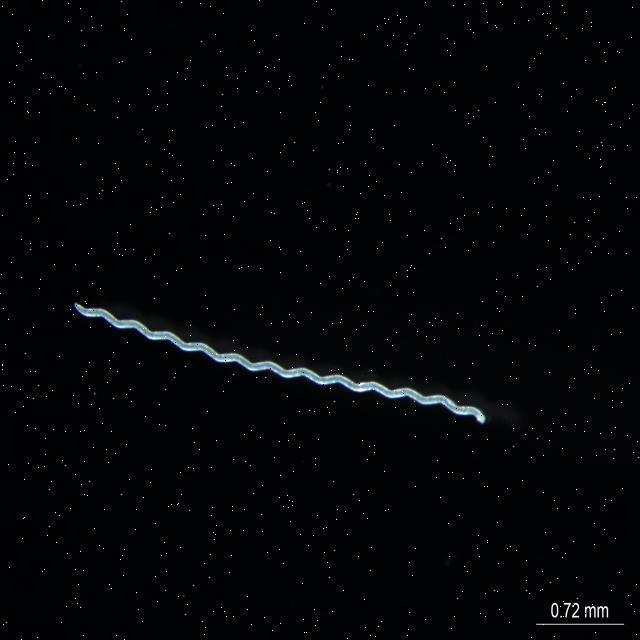fiber: (69, 294, 494, 435)
